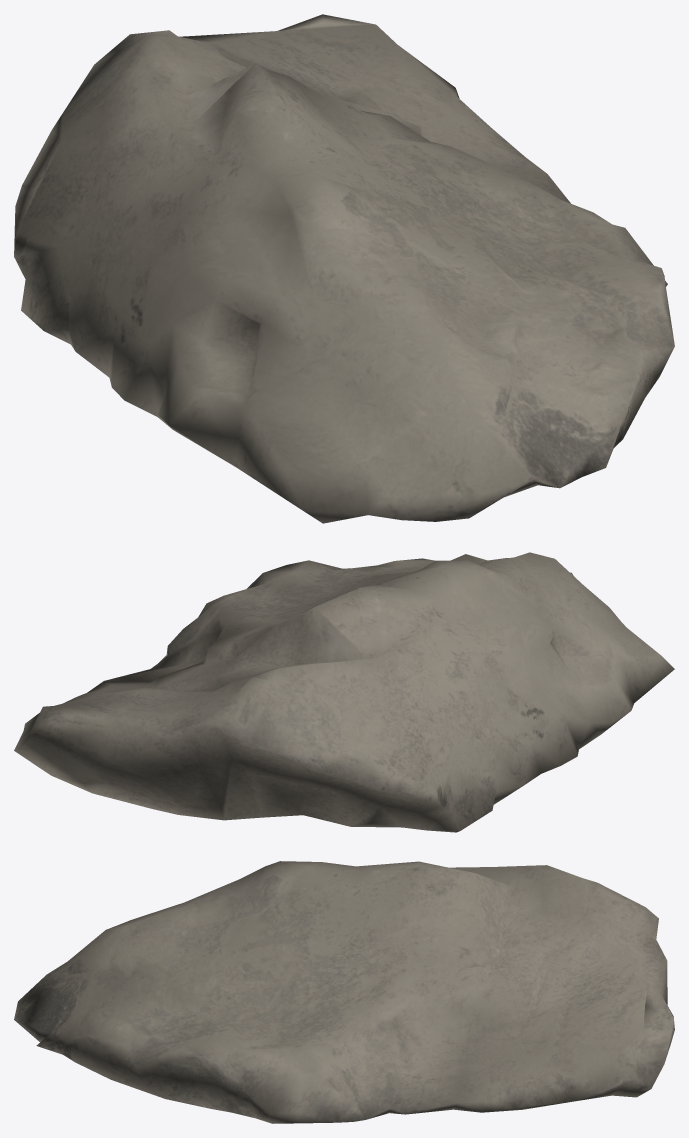
File: 3. moon_rock.fbx
The picture shows the model from 3 angles, top to bottom: view 1: azimuth 30°, elevation 25°; view 2: azimuth 150°, elevation 25°; view 3: azimuth 270°, elevation 25°; orthographic projection. The views are drawn at different scales.
Parts seen in each view (by area): view 1: Jason_Rock; view 2: Jason_Rock; view 3: Jason_Rock.
Part boxes in pixels (x1,y1,x2,y2): Jason_Rock: (14,14,674,523); Jason_Rock: (14,552,674,832); Jason_Rock: (14,861,674,1123).
Bounding box in the file's own units: 25.7 × 11.33 × 37.13.
1 material, 1 textured.
